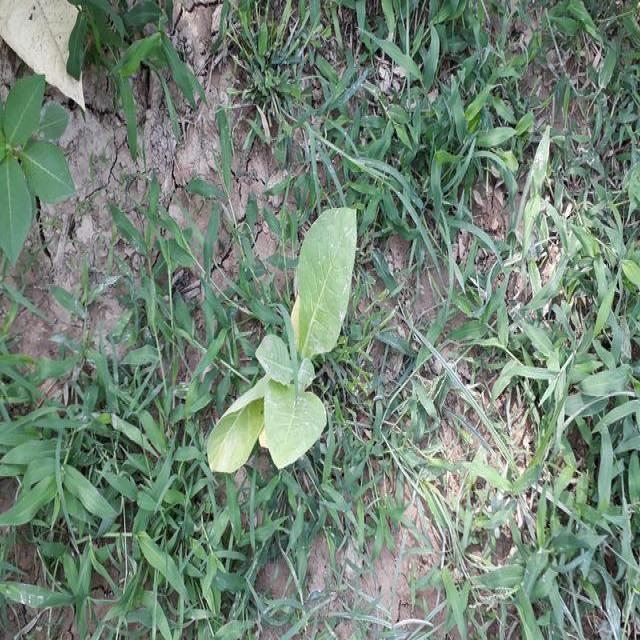crop: (188, 199, 412, 496)
